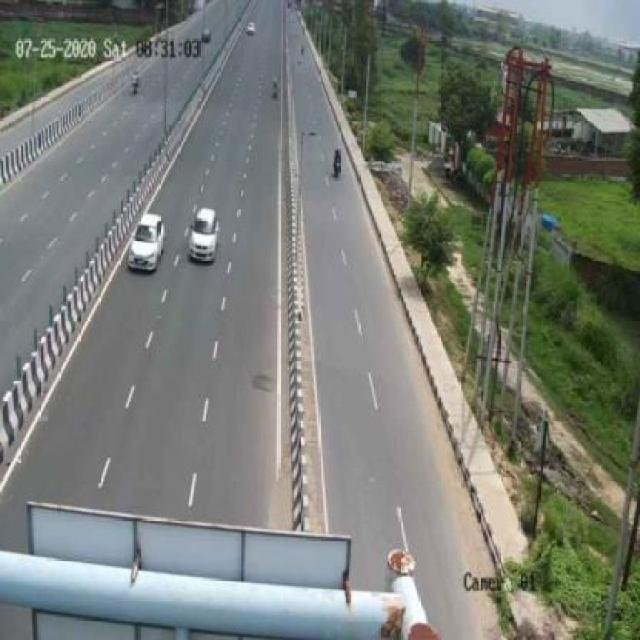car: (129, 214, 166, 275), (188, 209, 218, 265)
